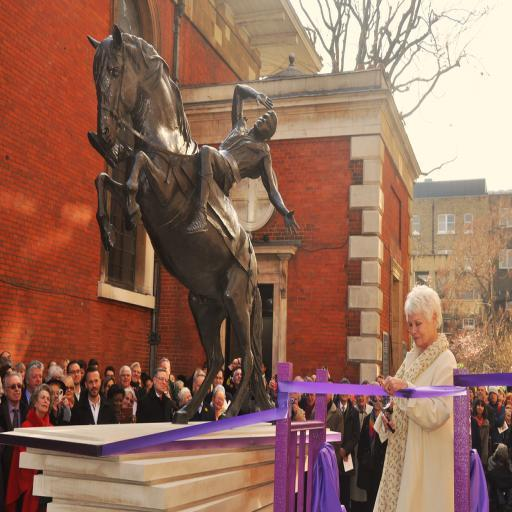horse: (84, 20, 278, 425)
